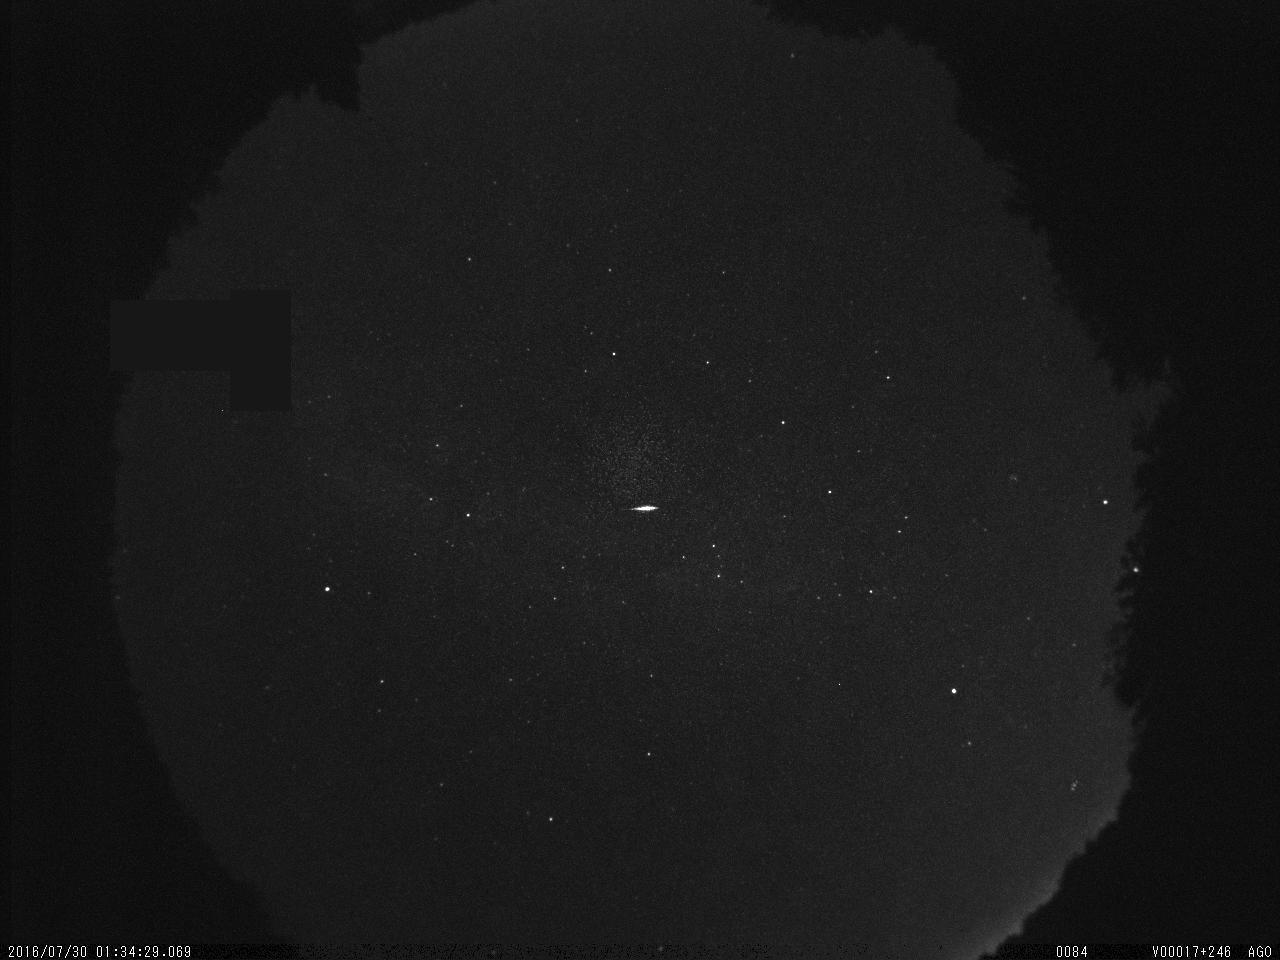Meteor: (616, 495, 664, 520)
